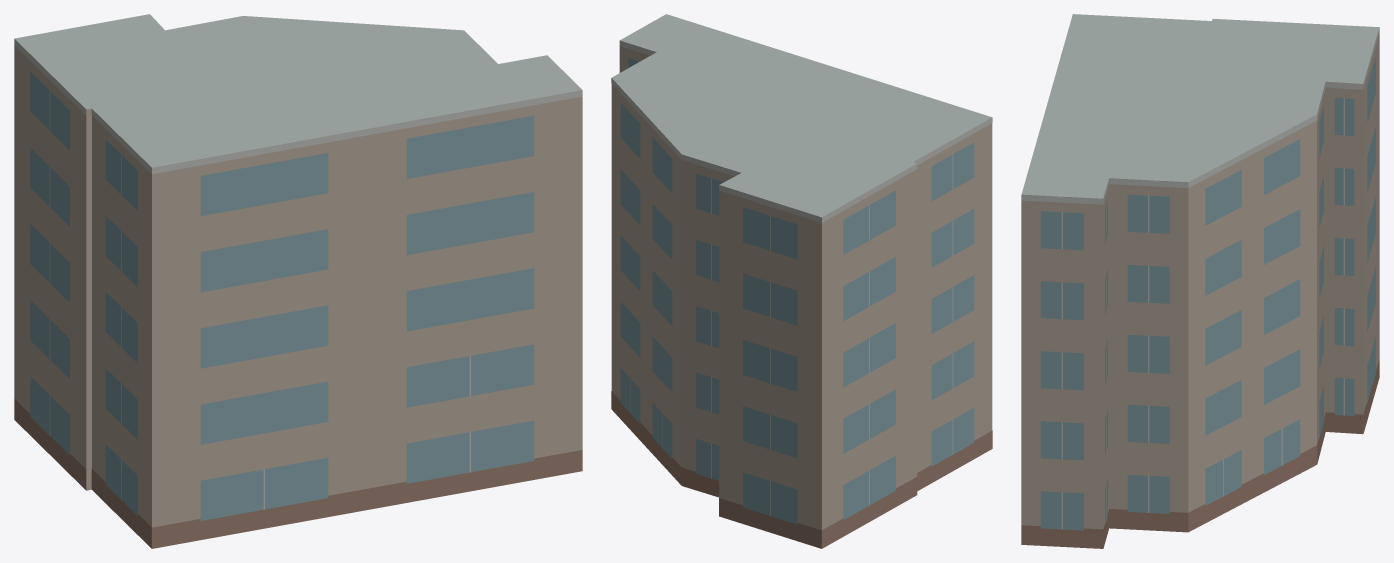
Rendered from survey-upis-32669718.glb.
3 renders of one model, left to right at view 1: azimuth 30°, elevation 25°; view 2: azimuth 150°, elevation 25°; view 3: azimuth 270°, elevation 25°, orthographic. The views are drawn at different scales.
Visible parts, largest first — view 1: survey-upis-32669718.tmp; view 2: survey-upis-32669718.tmp; view 3: survey-upis-32669718.tmp.
Boxes of the visible parts, x1,y1,x2,y2 form: survey-upis-32669718.tmp: (14,14,582,548); survey-upis-32669718.tmp: (611,14,992,548); survey-upis-32669718.tmp: (1021,14,1379,548).
Bounding box in the file's own units: 16.25 × 14.35 × 13.31.
